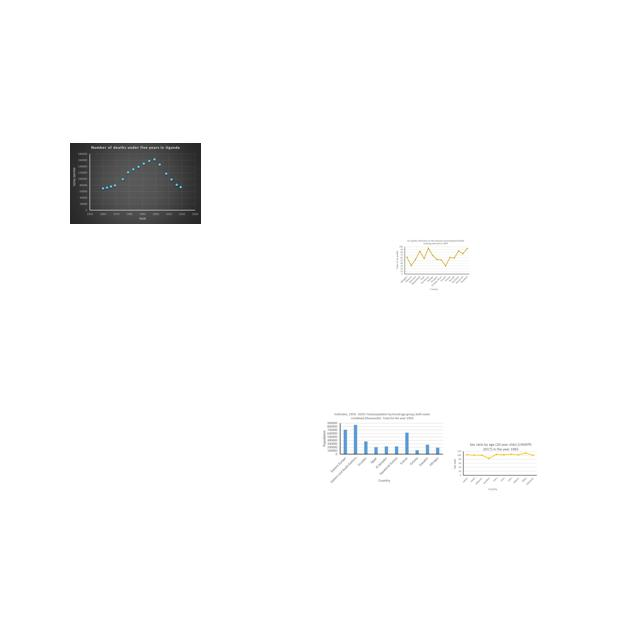Graph: (70, 143, 201, 224), (319, 411, 445, 485), (452, 442, 538, 491), (394, 238, 471, 292)
